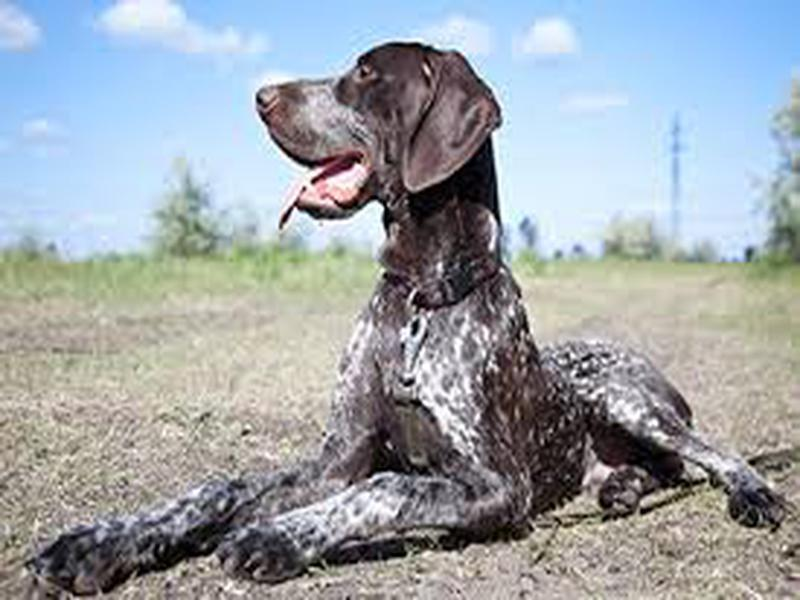dog_down: (27, 41, 788, 600)
